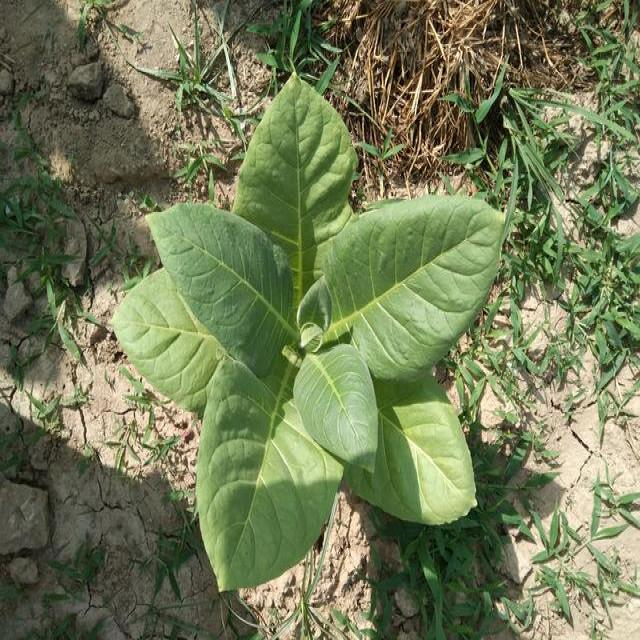crop: (112, 70, 515, 601)
